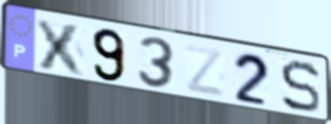2: (230, 50, 274, 111)
3: (136, 36, 178, 91)
9: (89, 27, 129, 85)
S: (278, 59, 322, 115)
X: (34, 16, 89, 79)
Z: (182, 42, 227, 100)
